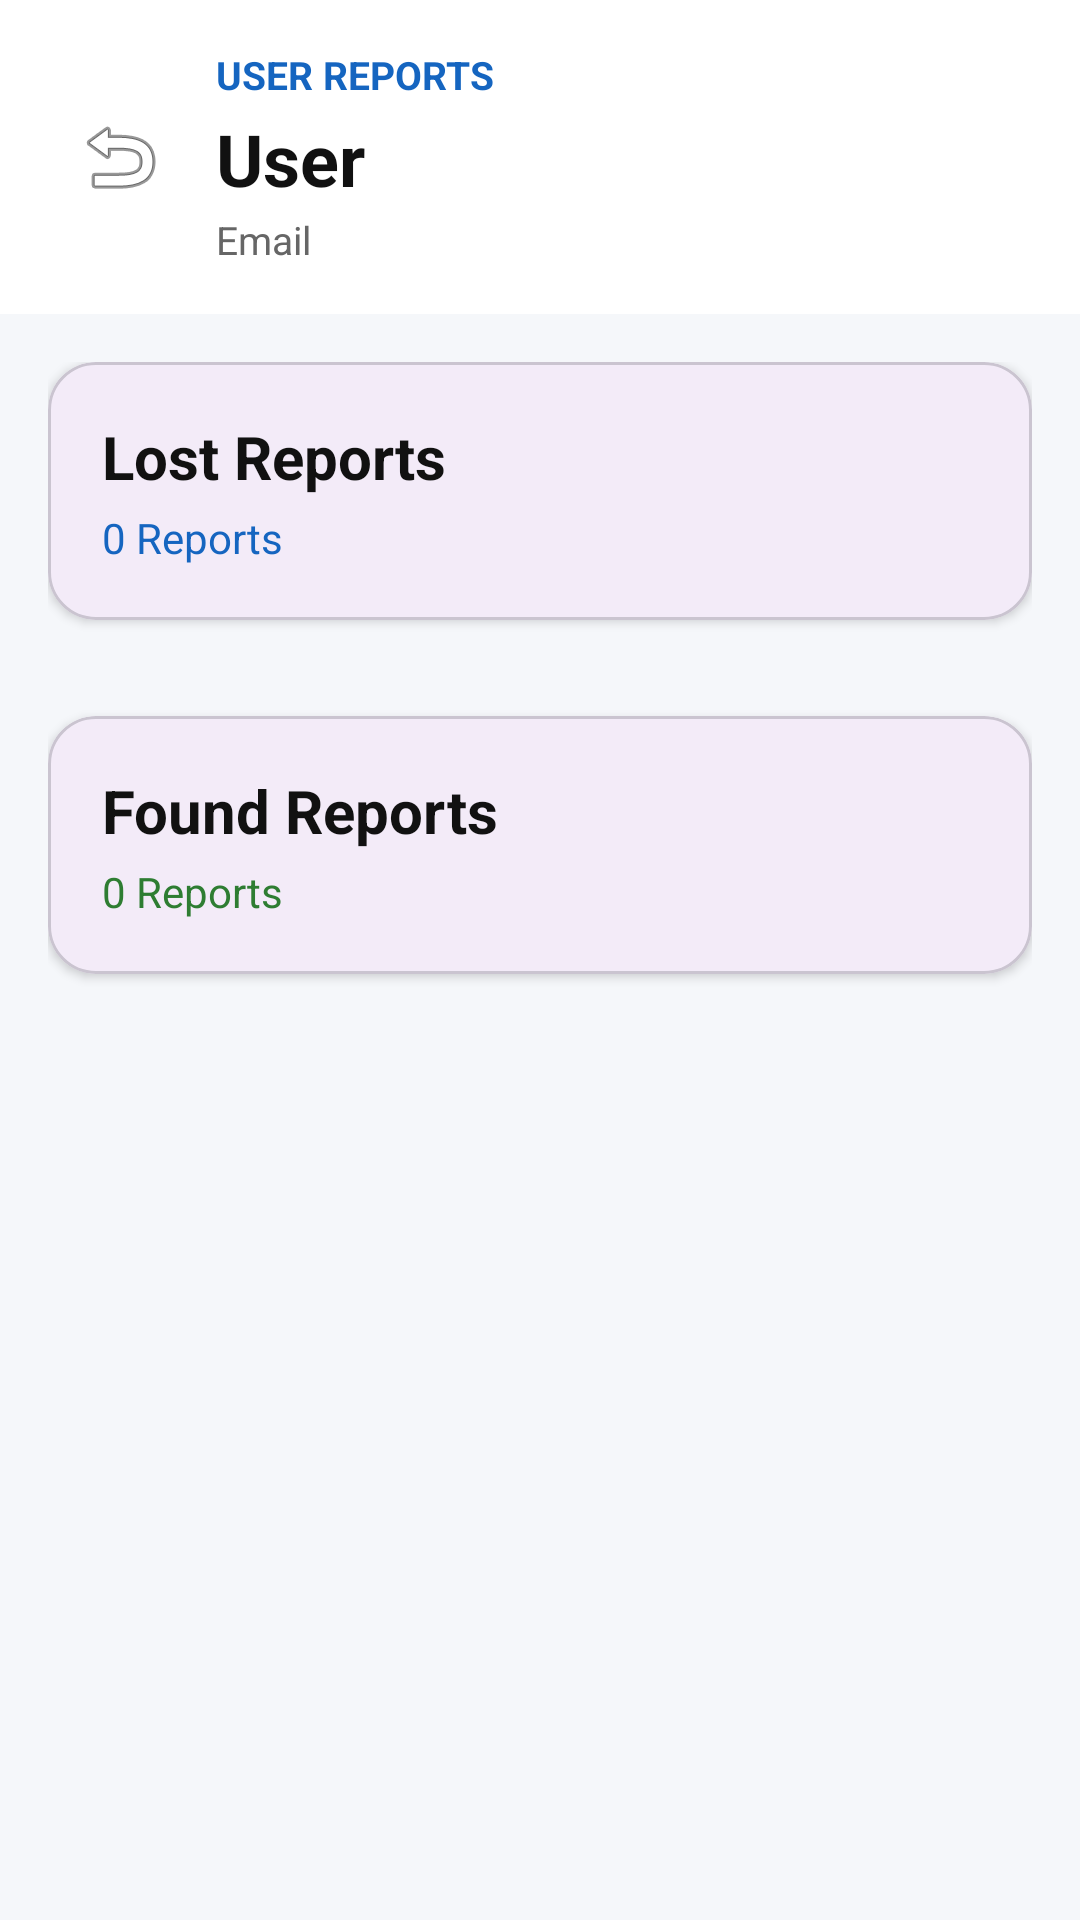

Locate icon controls on the screen. Image size 1080*1920, boxes as (x1, y1, x2, y2).
Back: (87, 126, 156, 189)
